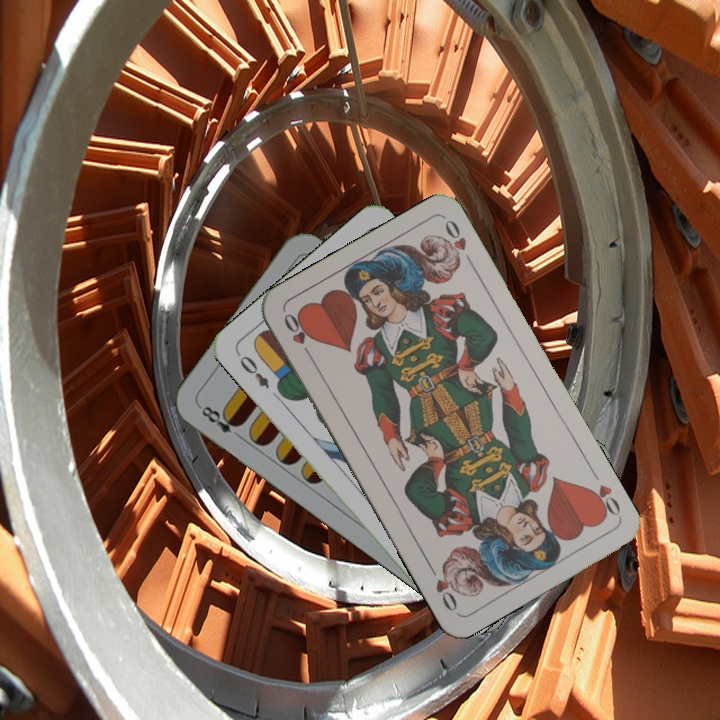E8: (195, 401, 244, 436)
EO: (232, 348, 272, 391)
HO: (279, 309, 316, 362), (583, 480, 624, 521)
